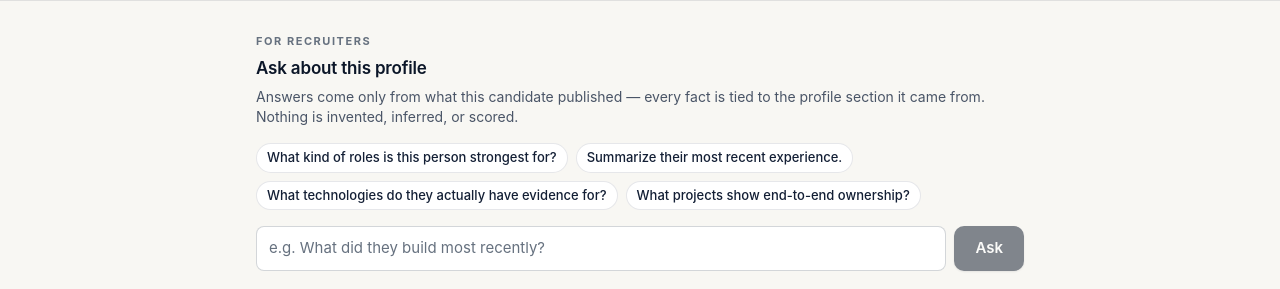
Scenario: RecruiterAsk component › translates anti-abuse limiting (TOO_MANY_REQUESTS) into human copy with the retry hint
Type "Hello?" into the field named "your question about this profile". click: [601, 248]
box: 256,226 -> 946,270
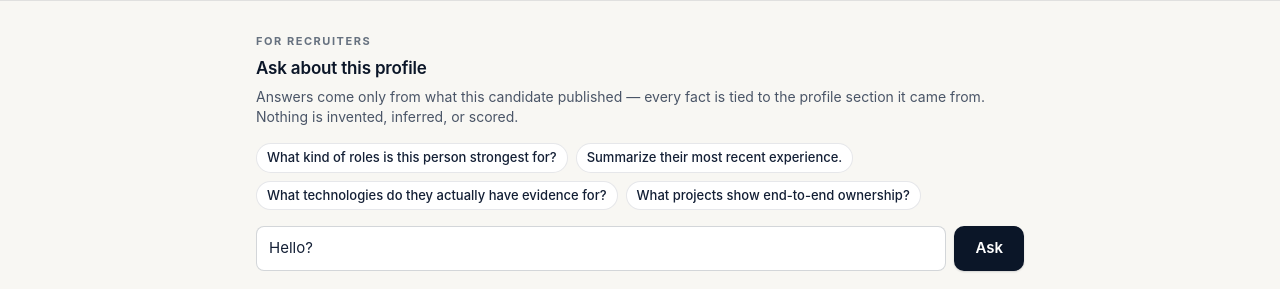
Click the button "Ask". click: [989, 248]
box: 954,226 -> 1024,270
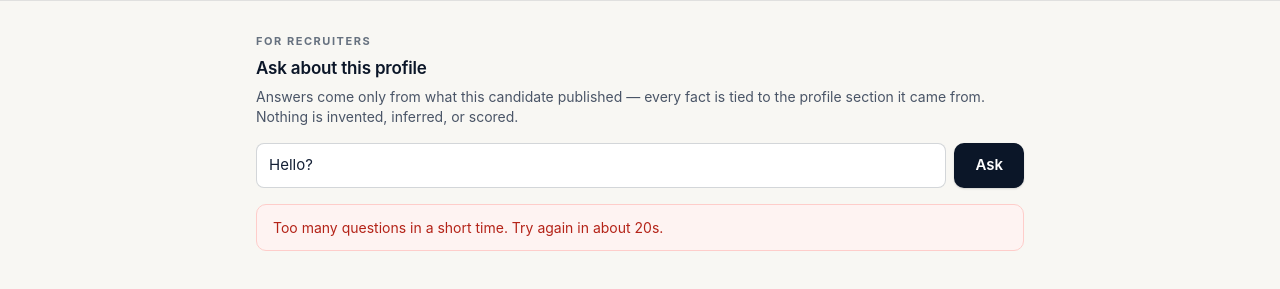
Expected: the text "Too many questions in a short time. Try again in about 20s." is shown, 256,204 -> 1024,250
